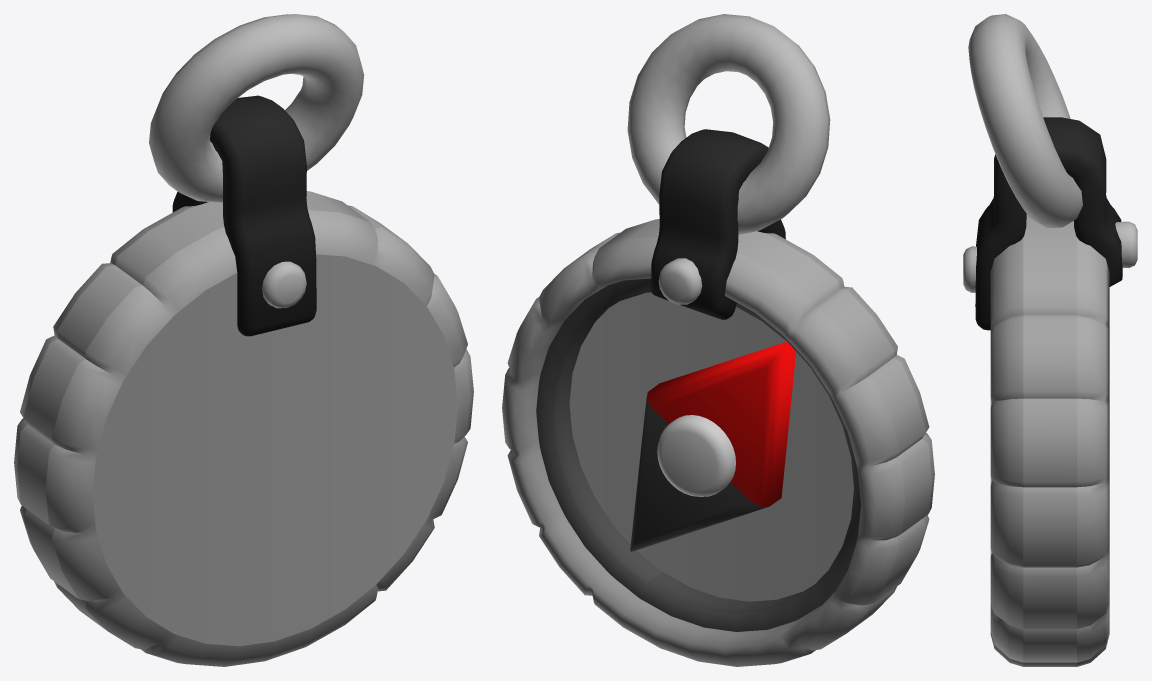
File: Compass_V1_0.fbx
The picture shows the model from 3 angles, left to right: view 1: azimuth 30°, elevation 25°; view 2: azimuth 150°, elevation 25°; view 3: azimuth 270°, elevation 25°; orthographic projection. The views are drawn at different scales.
Parts seen in each view (by area): view 1: Compass_V1_0; view 2: Compass_V1_0; view 3: Compass_V1_0.
Part boxes in pixels (left/top/right/bottom): Compass_V1_0: left=14, top=14, right=473, bottom=666; Compass_V1_0: left=502, top=14, right=934, bottom=666; Compass_V1_0: left=963, top=14, right=1137, bottom=666.
Bounding box in the file's own units: 0.3906 × 0.5717 × 0.1457.
